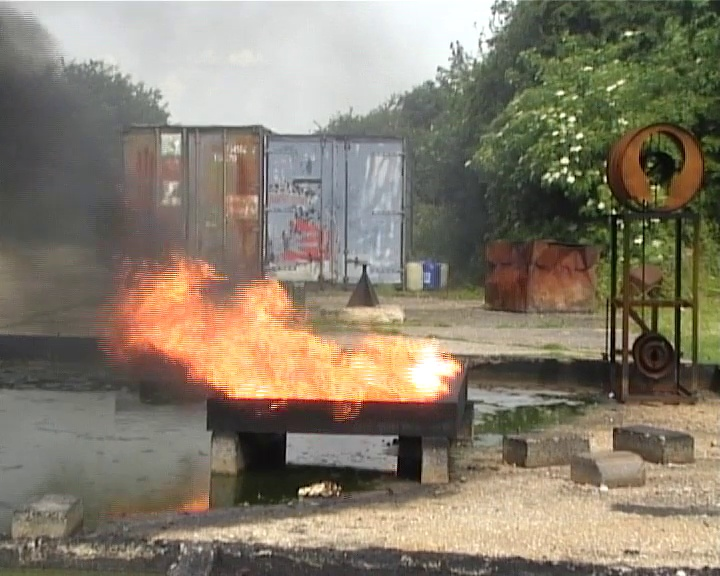fire: (138, 265, 455, 400)
